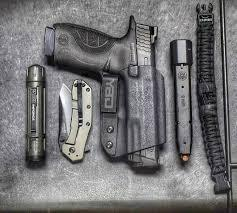Knife: (57, 79, 94, 164)
